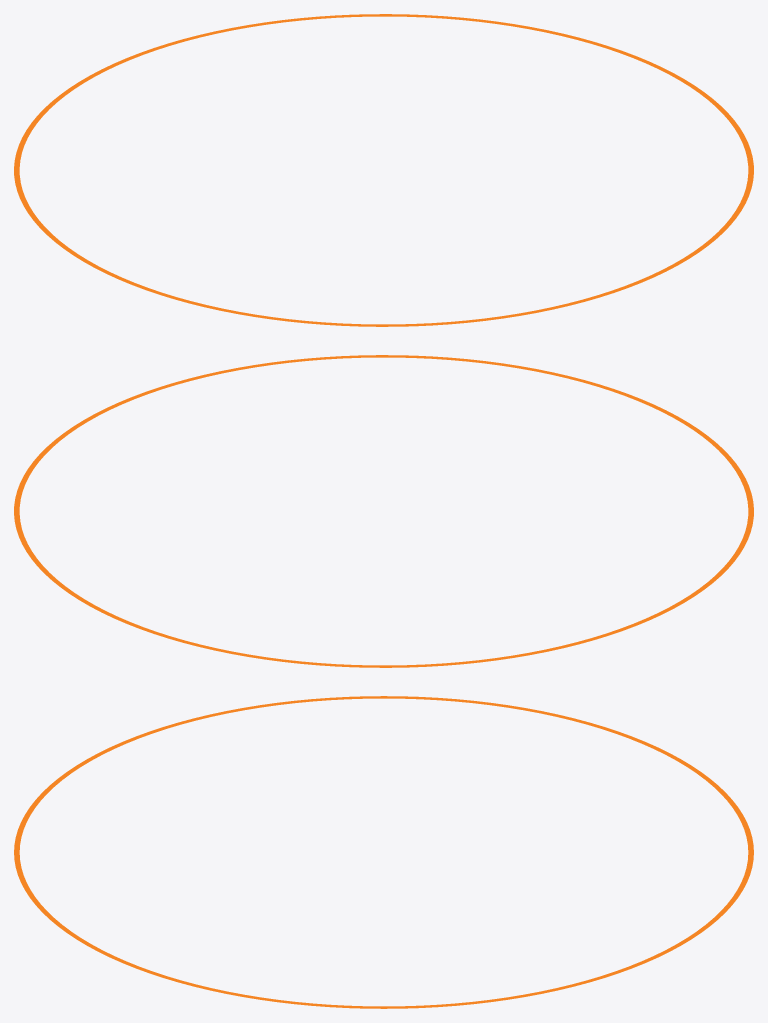
The picture shows the model from 3 angles, top to bottom: view 1: azimuth 30°, elevation 25°; view 2: azimuth 150°, elevation 25°; view 3: azimuth 270°, elevation 25°; orthographic projection.
Size of the model in its own units: 13 by 0 by 13.
1 material, 1 textured.
